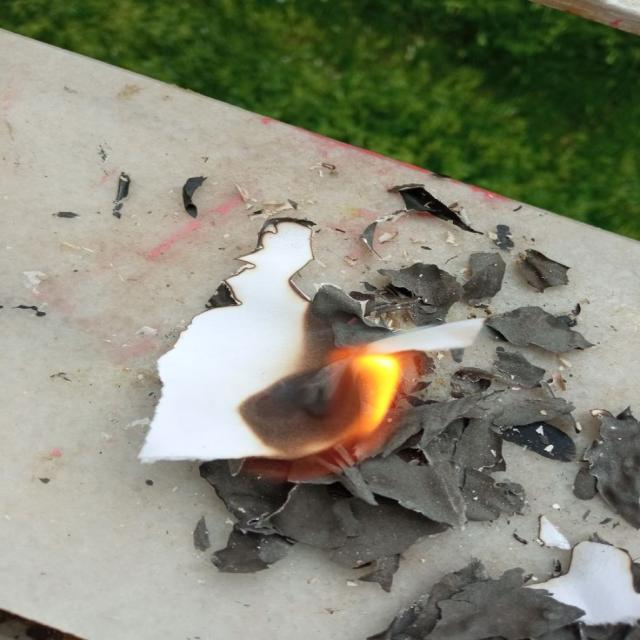fire: (328, 345, 398, 454)
